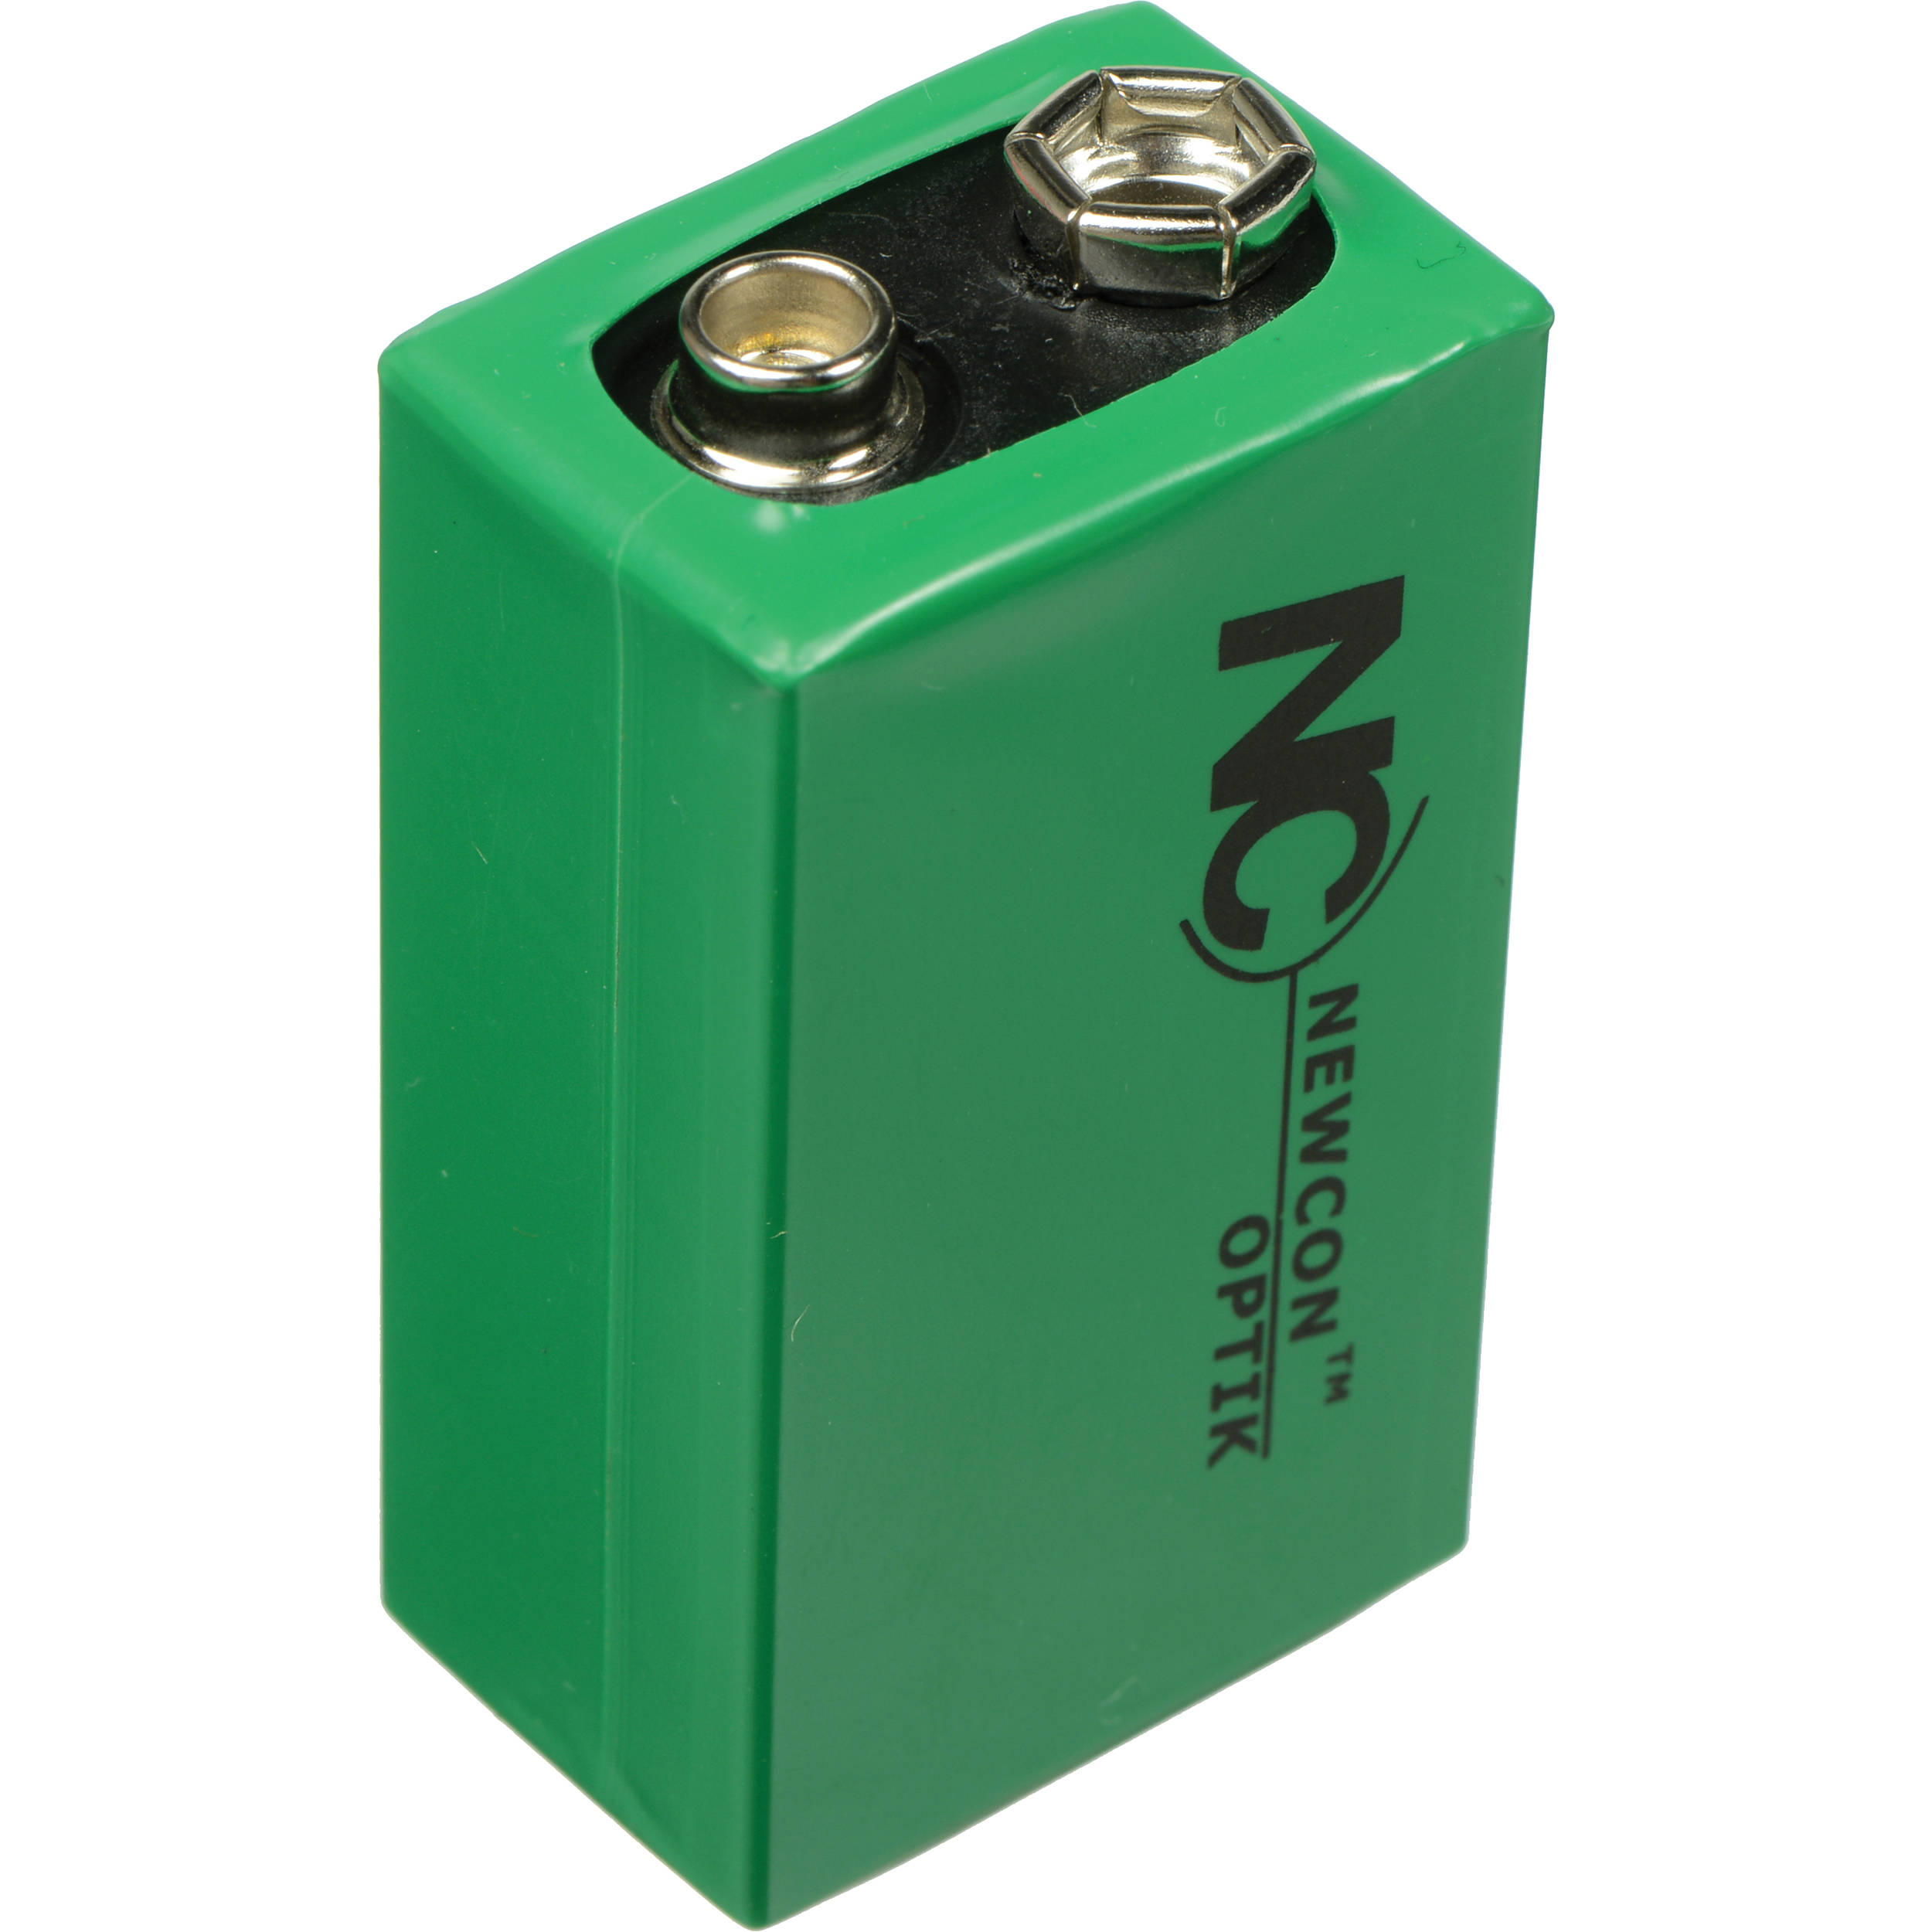9V: (294, 42, 1580, 1920)
